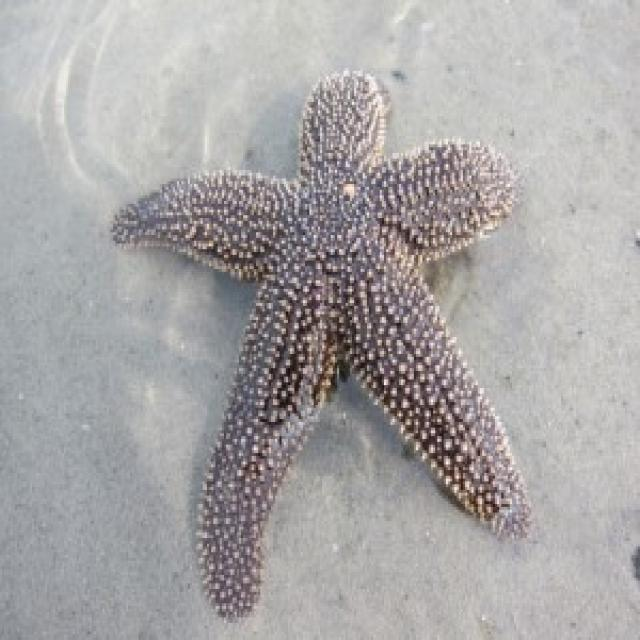Starfish: (114, 66, 539, 611)
